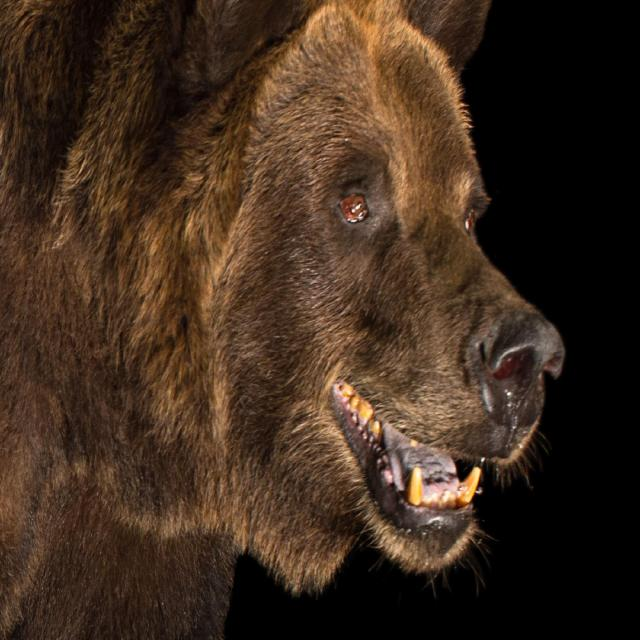Bear: (0, 0, 565, 640)
